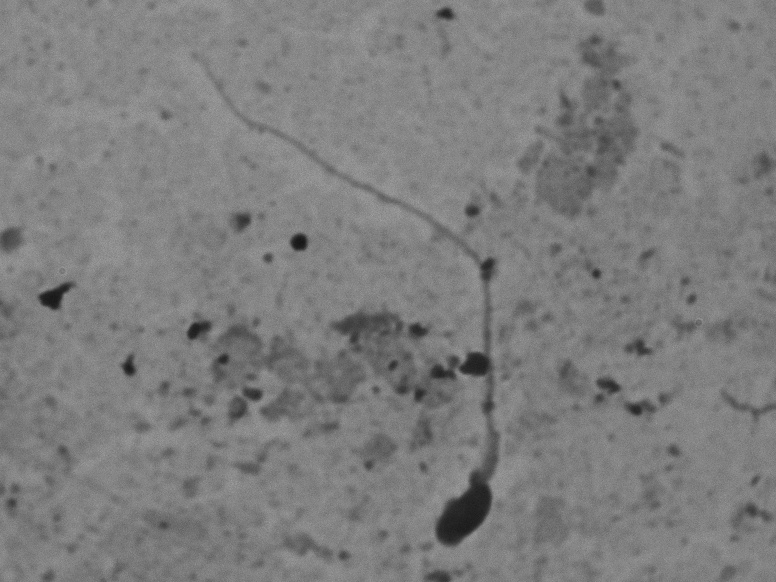Abnormal: (193, 36, 553, 556)
